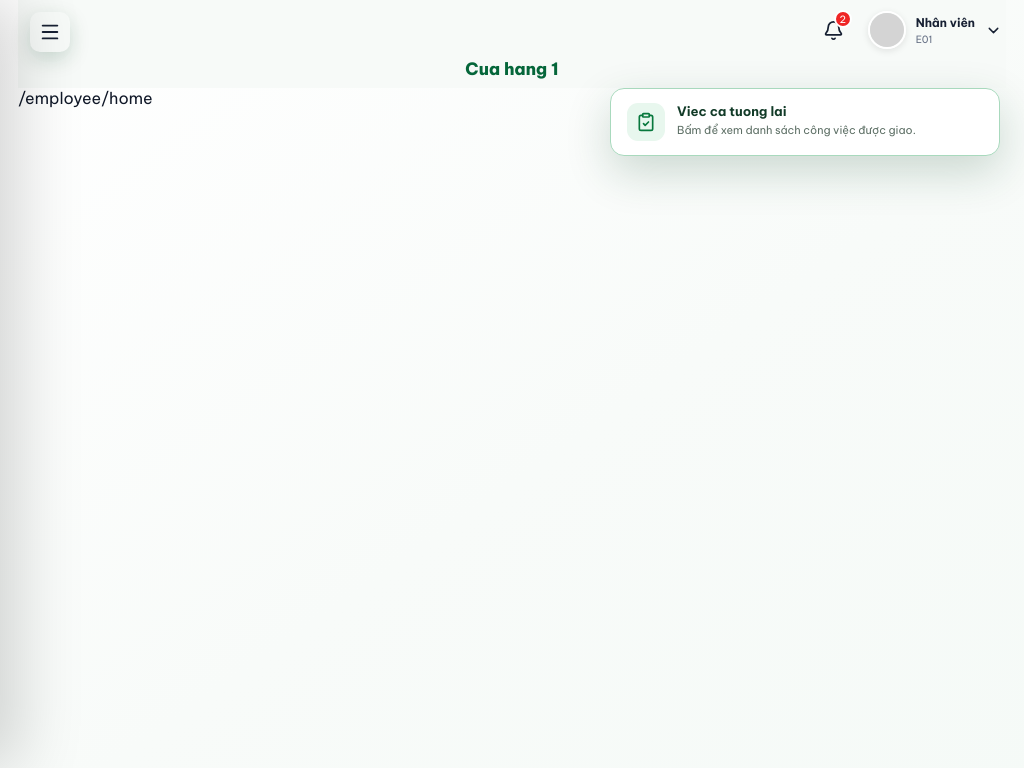
it: AppShell notifications › opens an assigned store task in the dedicated task checklist
The width and height of the screenshot is (1024, 768).
Click the button named "Xem thông báo".
click(834, 30)  # box x1=814 y1=10 x2=854 y2=50
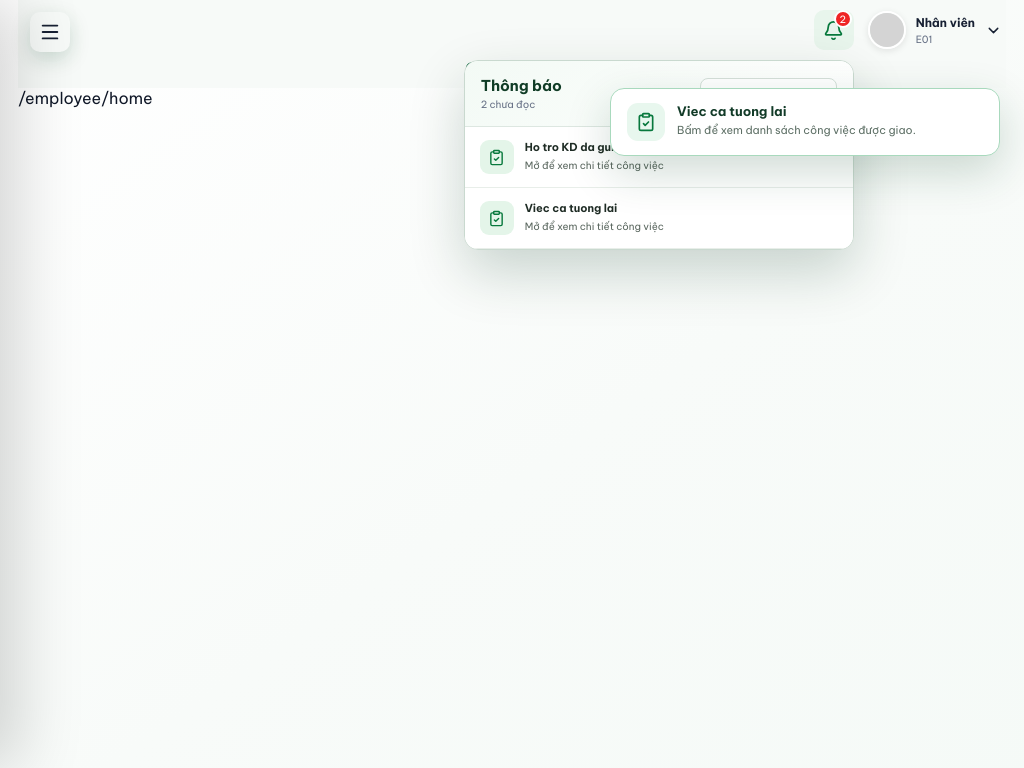
Click the button "Viec ca tuong lai Mở để xem chi tiết công việc".
click(659, 218)  # box x1=465 y1=188 x2=853 y2=249
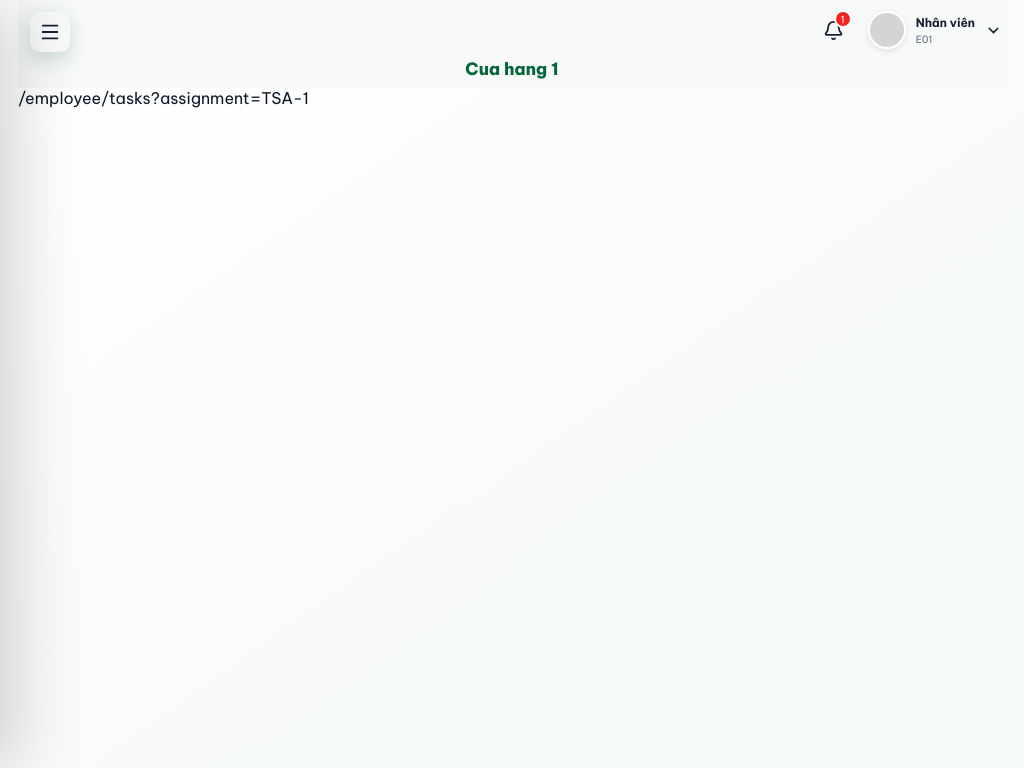
expect the text with test id "current-route" reads "/employee/tasks?assignment=TSA-1": met, box x1=18 y1=88 x2=309 y2=108
